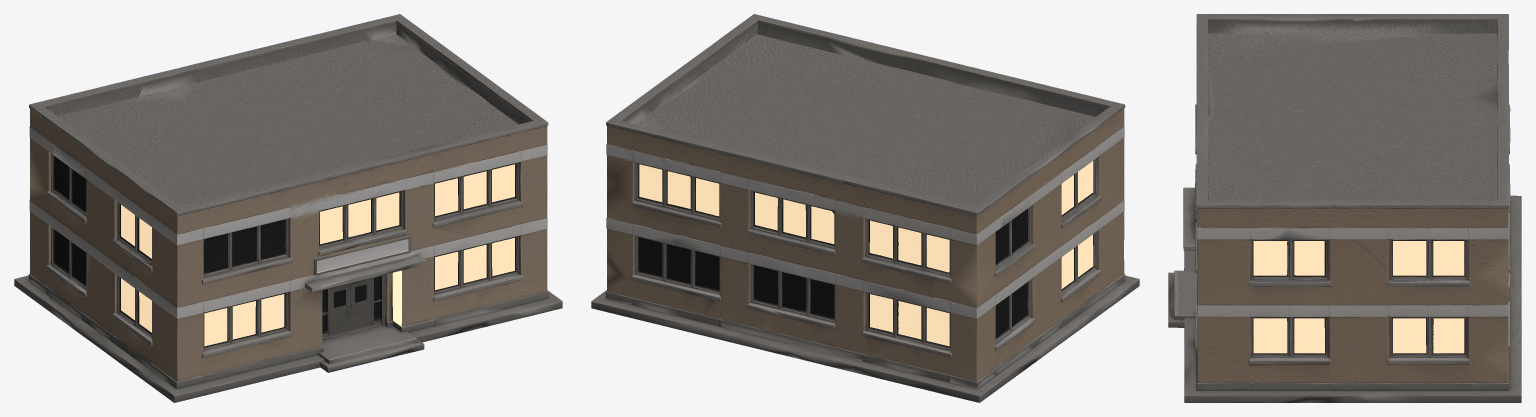
Rendered from civic-school.glb.
3 views of the same model, side by side, from view 1: azimuth 30°, elevation 25°; view 2: azimuth 150°, elevation 25°; view 3: azimuth 270°, elevation 25° (orthographic). The views are drawn at different scales.
Size of the model in its own units: 17.68 by 8 by 13.21.
Materials: 3 (3 with a texture image).
